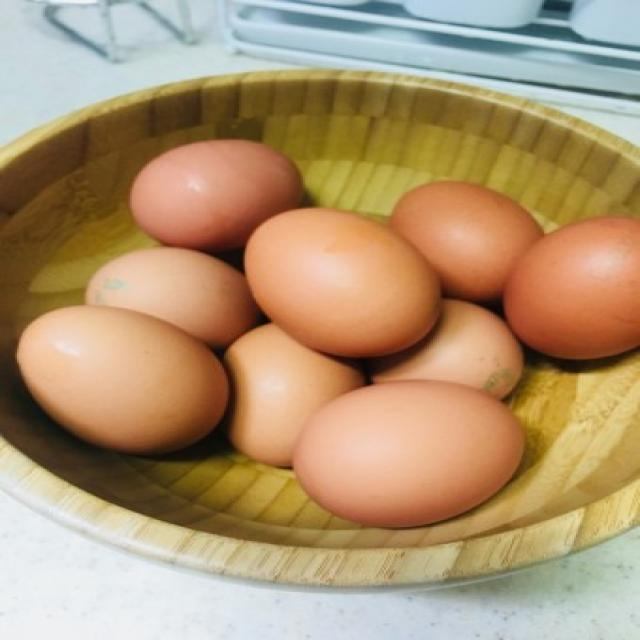eggs: (287, 379, 531, 529), (15, 298, 235, 460), (249, 207, 453, 362), (500, 207, 640, 373), (123, 138, 309, 246), (385, 183, 553, 299), (76, 245, 250, 341), (224, 329, 330, 467)
